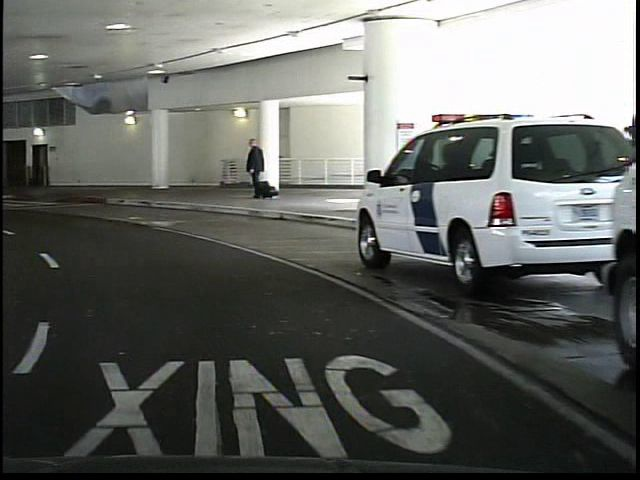person: (238, 135, 263, 202)
